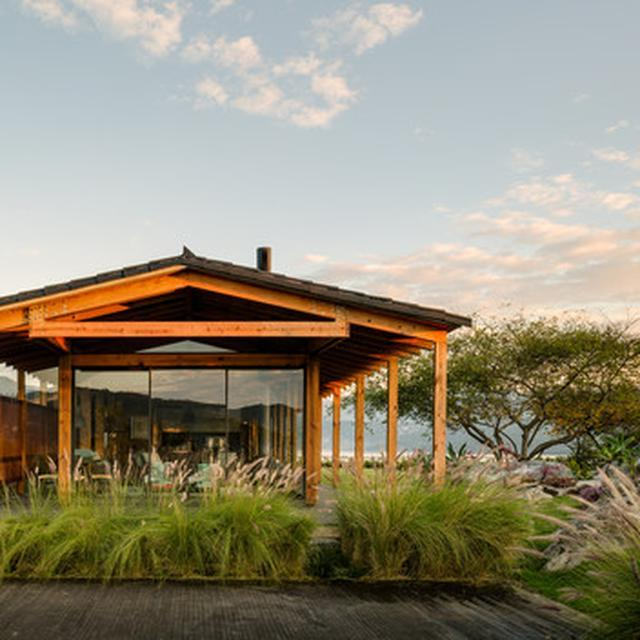building: (0, 253, 465, 531)
